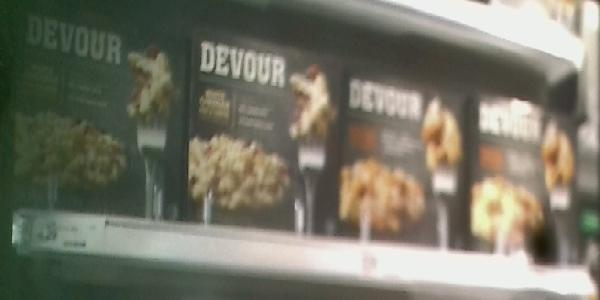pizza1: (8, 6, 184, 222), (189, 19, 336, 239), (338, 62, 470, 251), (468, 88, 577, 265)
